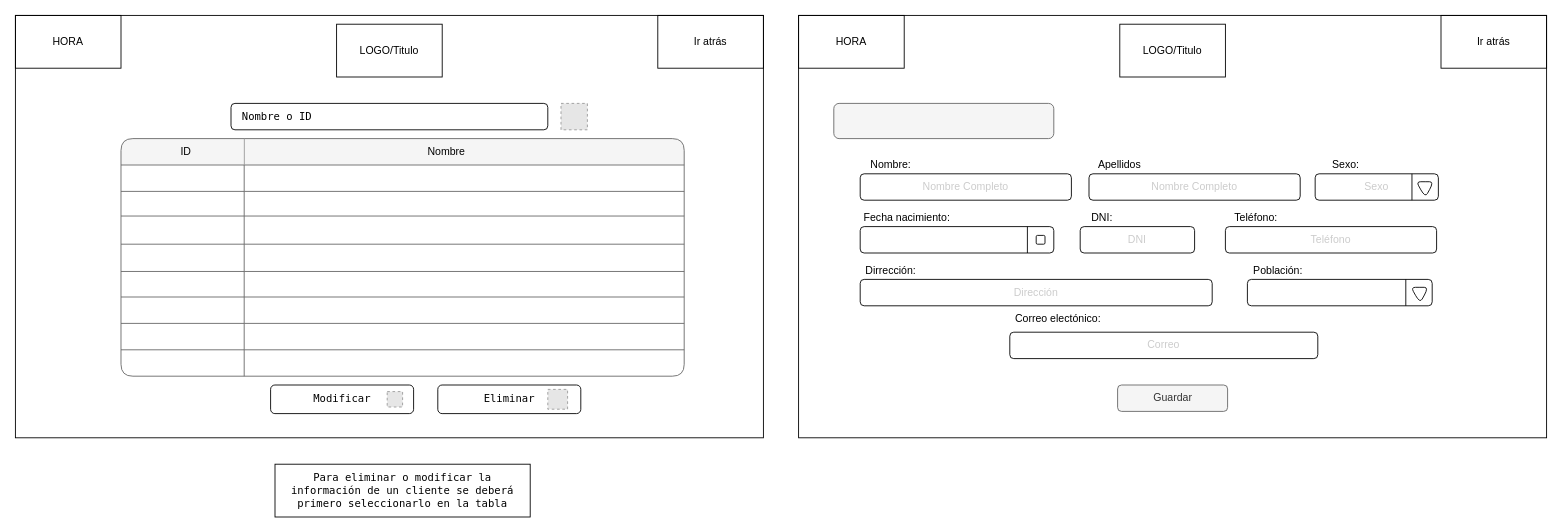
This 1562x532 diagram has some shape labels left out. Grey dashed boxes stand in for pictures. Each missing label, with the box of its shape:
Ficha cliente (nº cliente): (833, 103, 1054, 139)
Nacimiento: (859, 226, 1054, 253)
Población: (1247, 279, 1432, 306)
